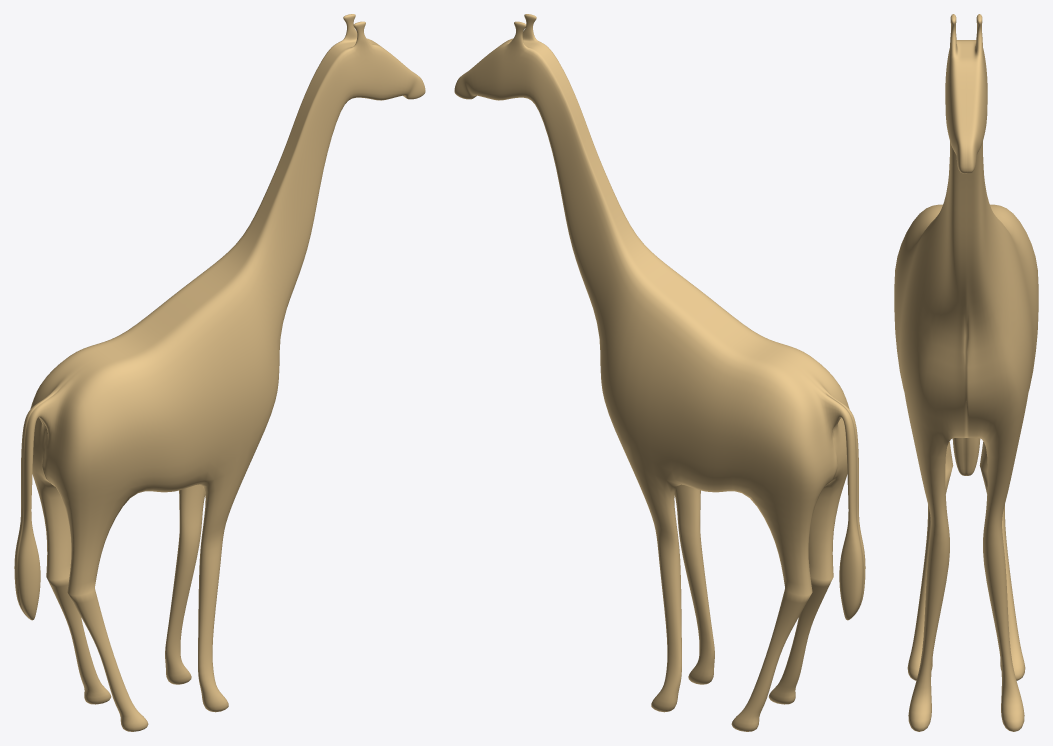
The model's file is Giraffe.fbx.
3 renders of one model, left to right at view 1: azimuth 30°, elevation 25°; view 2: azimuth 150°, elevation 25°; view 3: azimuth 270°, elevation 25°, orthographic. The views are drawn at different scales.
Visible parts, largest first — view 1: Plane.001; view 2: Plane.001; view 3: Plane.001.
Boxes of the visible parts, left/top/right/bottom form: Plane.001: left=14, top=14, right=425, bottom=731; Plane.001: left=454, top=14, right=865, bottom=731; Plane.001: left=894, top=14, right=1038, bottom=731.
Bounding box in the file's own units: 352 × 529 × 85.59.
